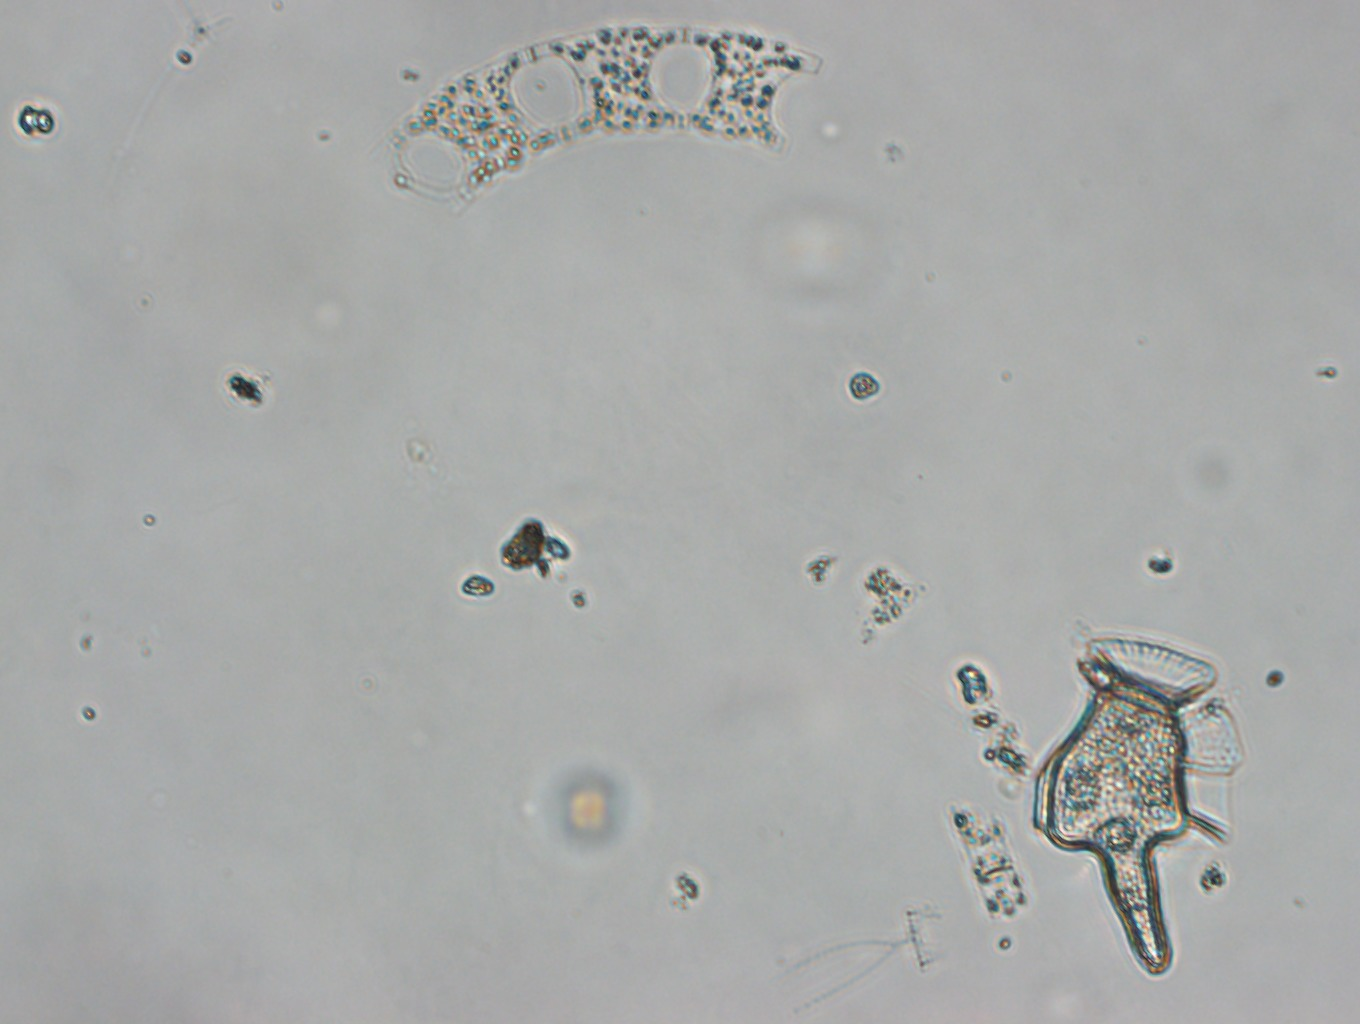dinophysis caudata: (1030, 627, 1239, 977)
eucampia: (385, 29, 821, 228)
